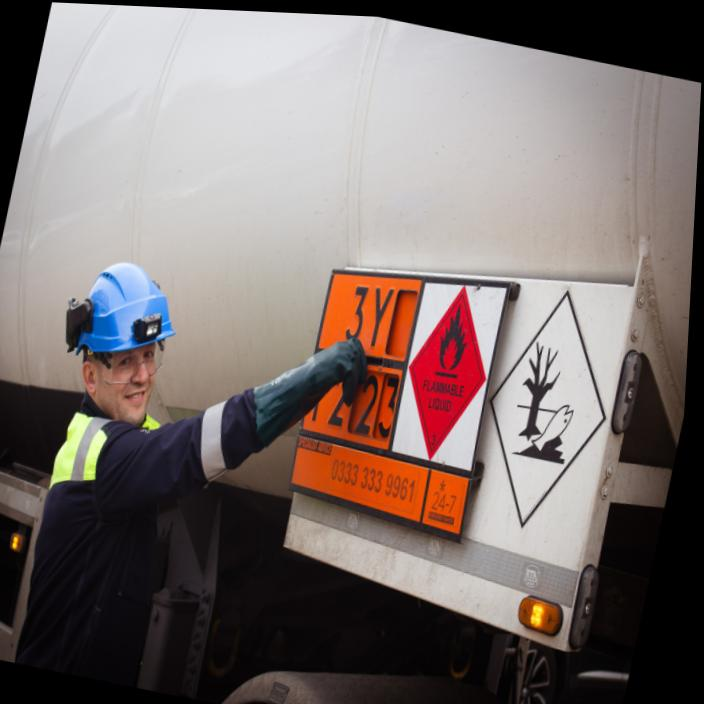can and bottle trash cans: (409, 286, 485, 458)
